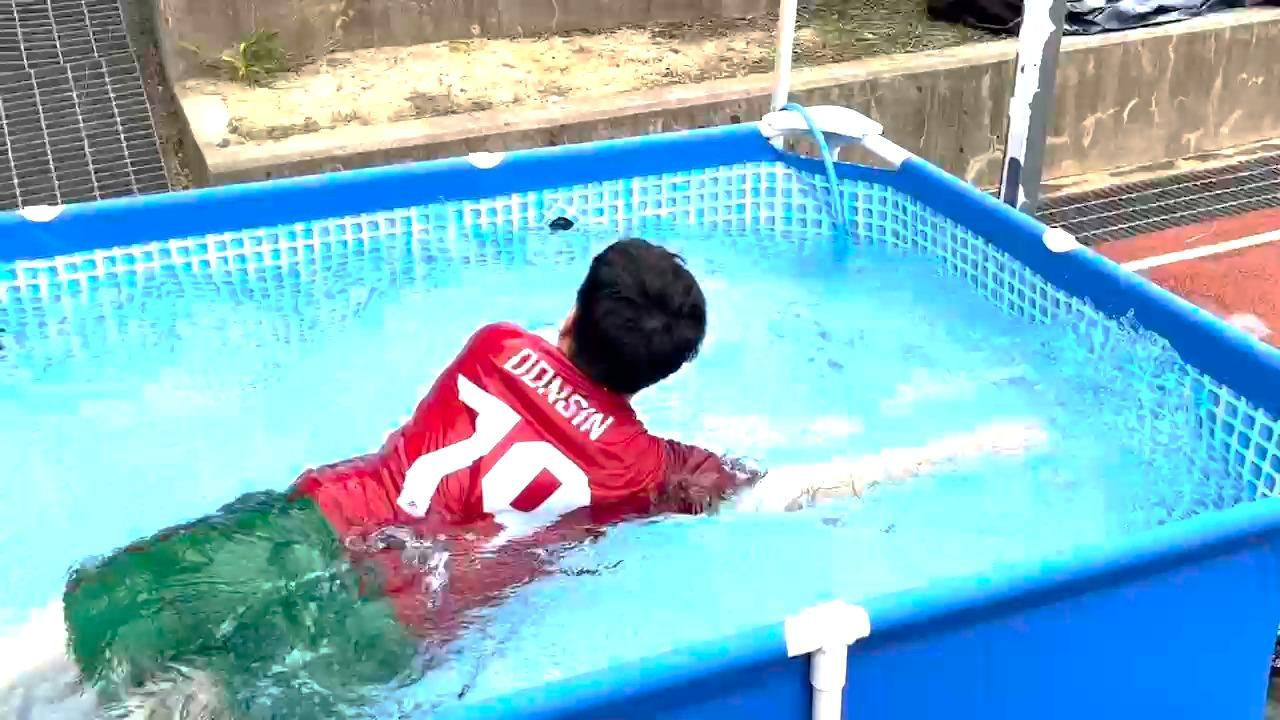Swimming: (0, 193, 1090, 720)
